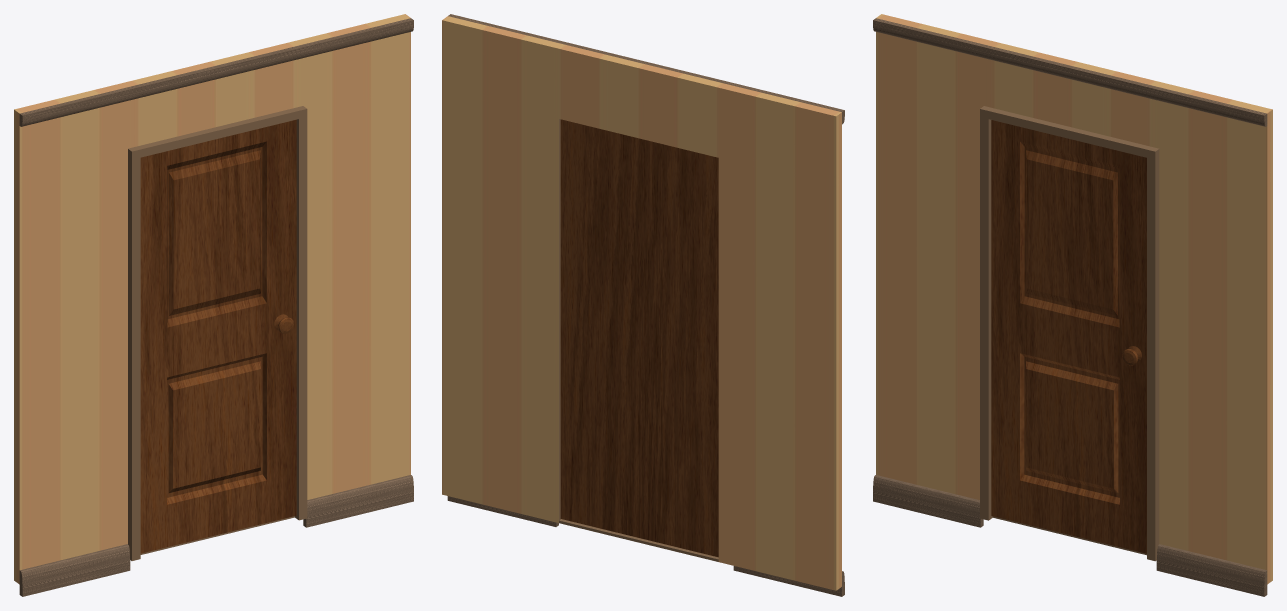
File: House_doorClosed.fbx
The picture shows the model from 3 angles, left to right: view 1: azimuth 30°, elevation 25°; view 2: azimuth 150°, elevation 25°; view 3: azimuth 330°, elevation 25°; orthographic projection.
Parts seen in each view (by area): view 1: wall_basic.001, door, plint_top, plint_floorleft, plint_floorRight; view 2: wall_basic.001, door, plint_top, plint_floorleft, plint_floorRight; view 3: wall_basic.001, door, plint_top, plint_floorRight, plint_floorleft.
Part boxes in pixels (bbox=[...]): wall_basic.001: bbox=[14, 14, 410, 584]; door: bbox=[140, 119, 296, 553]; plint_top: bbox=[19, 18, 413, 126]; plint_floorleft: bbox=[19, 544, 130, 596]; plint_floorRight: bbox=[303, 475, 413, 527]; wall_basic.001: bbox=[442, 16, 841, 590]; door: bbox=[560, 119, 718, 557]; plint_top: bbox=[448, 14, 844, 124]; plint_floorleft: bbox=[733, 566, 844, 596]; plint_floorRight: bbox=[447, 496, 558, 526]; wall_basic.001: bbox=[876, 14, 1272, 584]; door: bbox=[991, 120, 1146, 553]; plint_top: bbox=[873, 18, 1267, 126]; plint_floorRight: bbox=[1156, 544, 1267, 596]; plint_floorleft: bbox=[873, 475, 983, 527].
Size of the model in its own units: 200 by 235 by 11.35.
7 materials, 6 textured.
